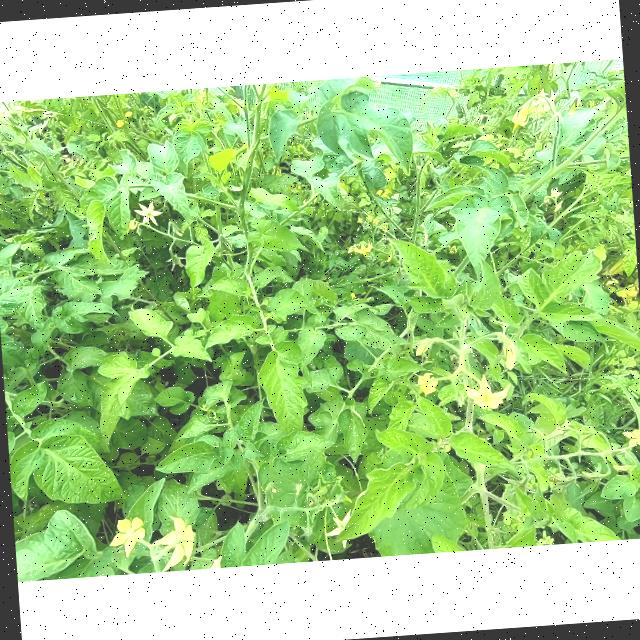Flowers: (149, 514, 197, 572), (462, 371, 511, 410), (108, 516, 146, 560), (324, 510, 352, 550), (133, 199, 163, 228), (529, 86, 556, 118), (497, 336, 519, 372), (416, 371, 440, 396), (508, 102, 527, 132), (413, 336, 441, 356), (620, 426, 640, 450), (347, 240, 373, 256), (613, 462, 635, 472), (548, 186, 561, 199), (376, 188, 392, 198), (448, 243, 460, 254), (554, 202, 564, 214), (127, 218, 137, 230), (116, 118, 124, 128), (356, 216, 364, 224), (372, 218, 379, 226), (124, 110, 130, 118), (366, 215, 372, 222), (382, 226, 388, 232)
